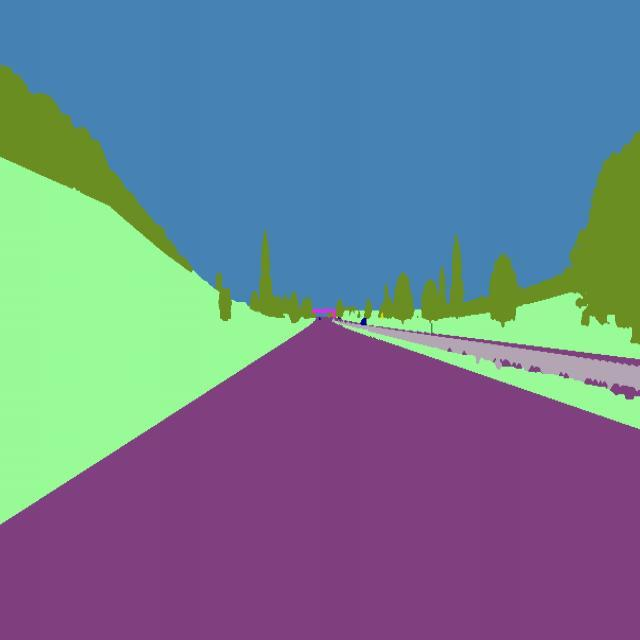safe: (359, 316, 369, 328)
